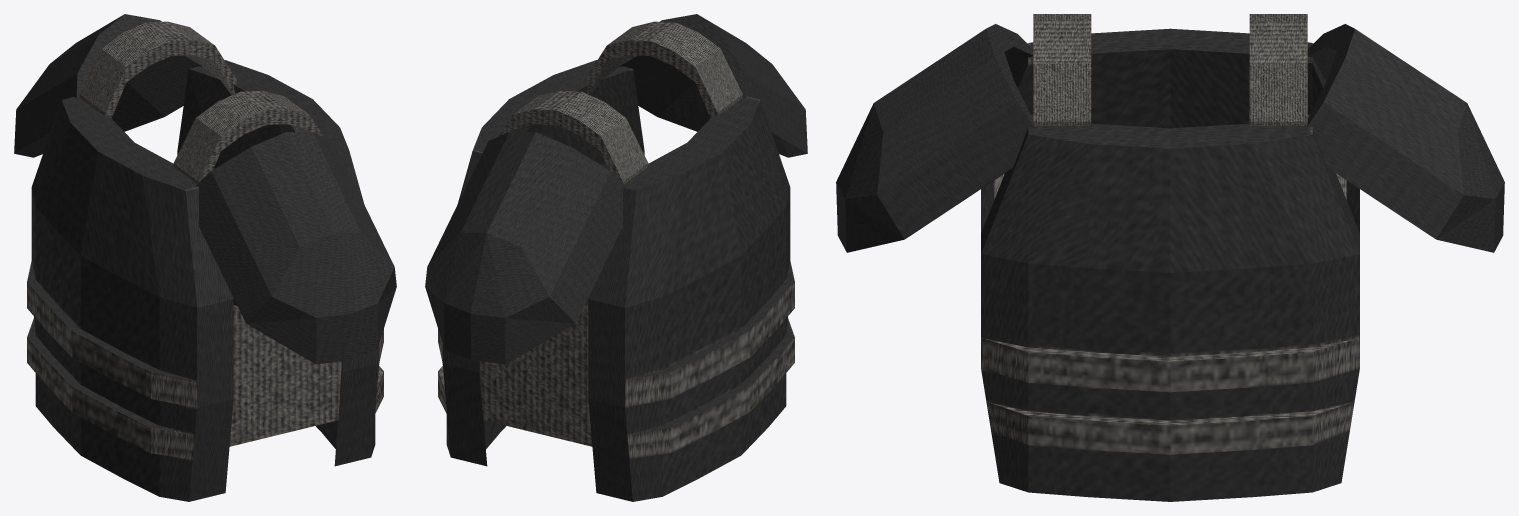
Rendered from armor.fbx.
3 views of the same model, side by side, from view 1: azimuth 30°, elevation 25°; view 2: azimuth 150°, elevation 25°; view 3: azimuth 270°, elevation 25° (orthographic). The views are drawn at different scales.
Parts seen in each view (by area): view 1: Cube; view 2: Cube; view 3: Cube.
Part boxes in pixels (x1,y1,x2,y2): Cube: (14, 14, 396, 501); Cube: (425, 14, 807, 501); Cube: (836, 14, 1504, 501).
Size of the model in its own units: 186 by 239 by 353.
Materials: 1 (1 with a texture image).
